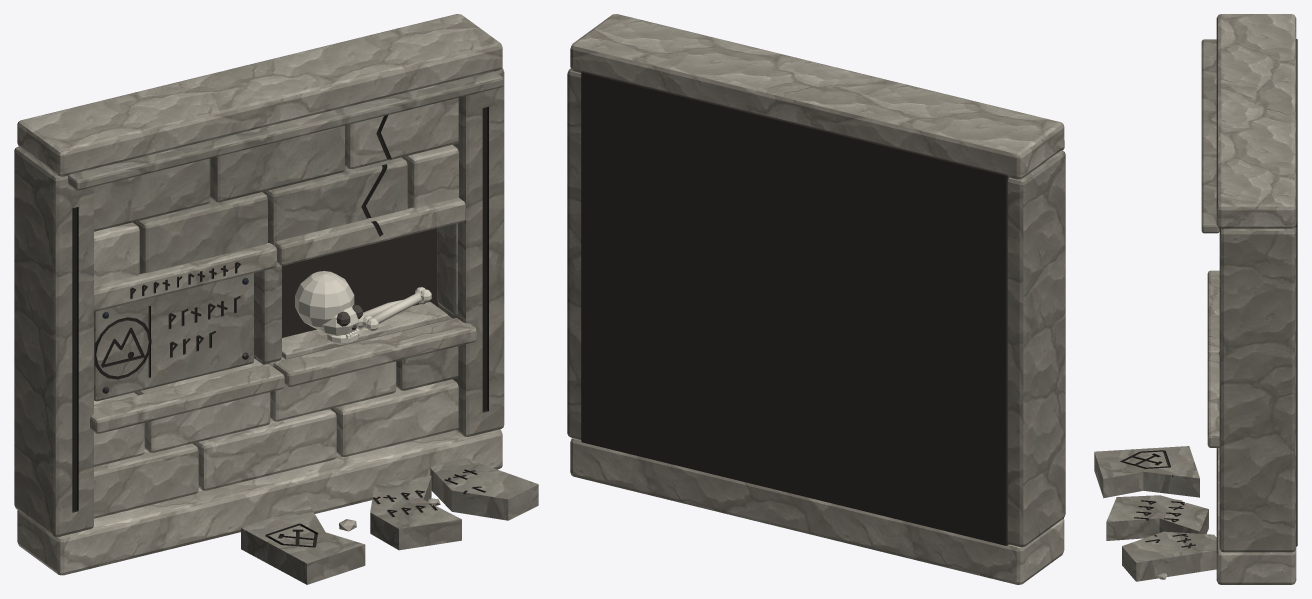
The model's file is qb_loculus_collapsed.glb.
3 views of the same model, side by side, from view 1: azimuth 30°, elevation 25°; view 2: azimuth 150°, elevation 25°; view 3: azimuth 270°, elevation 25° (orthographic). The views are drawn at different scales.
Visible parts, largest first — view 1: model; view 2: model; view 3: model.
Boxes of the visible parts, x1,y1,x2,y2 form: model: [14, 14, 538, 584]; model: [567, 14, 1065, 584]; model: [1094, 14, 1297, 584].
Size of the model in its own units: 1.55 by 1.4 by 0.6784.
Materials: 11 (4 with a texture image).
